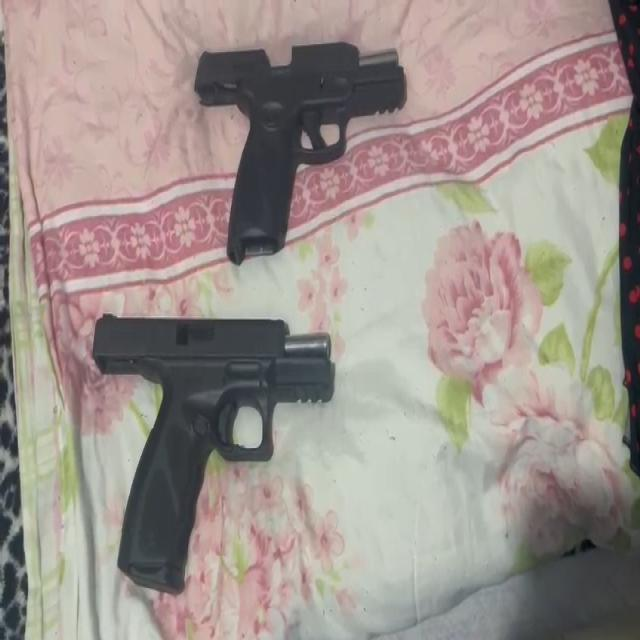gun: (90, 310, 339, 598), (192, 39, 407, 266)
